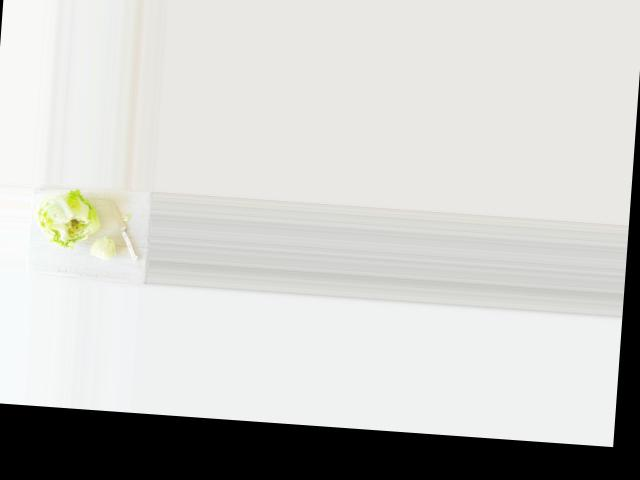lettuce: (29, 189, 96, 250)
